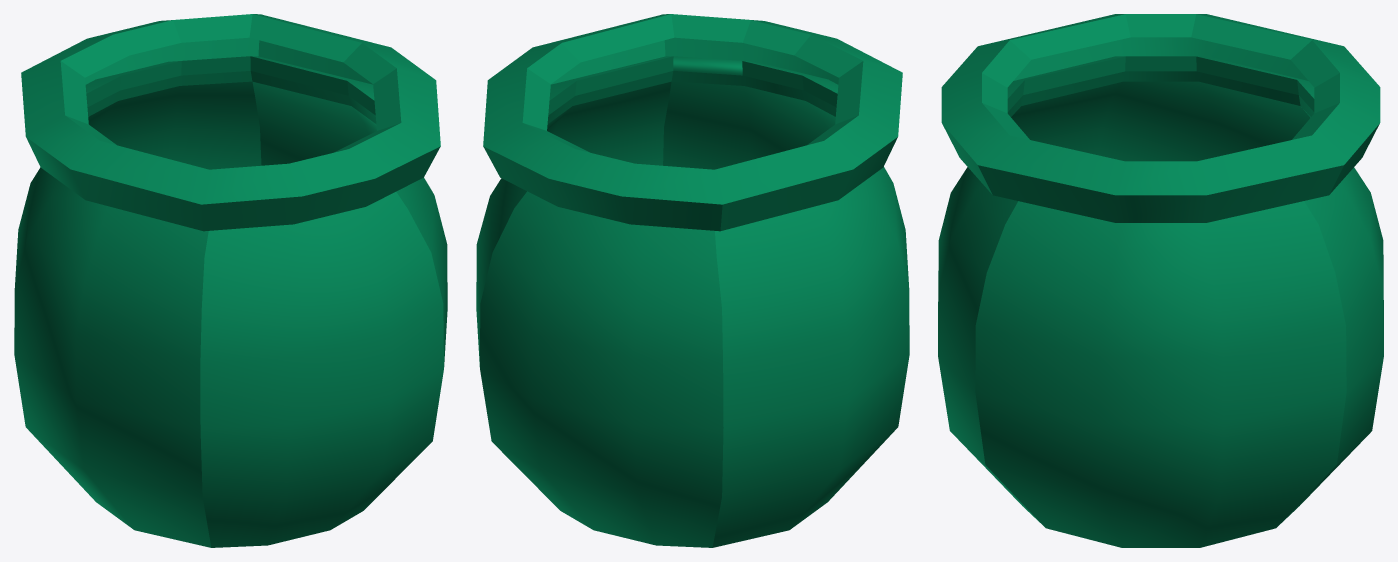
The model's file is vase.fbx.
3 renders of one model, left to right at view 1: azimuth 30°, elevation 25°; view 2: azimuth 150°, elevation 25°; view 3: azimuth 270°, elevation 25°, orthographic.
Parts seen in each view (by area): view 1: vase; view 2: vase; view 3: vase.
Boxes of the visible parts, left/top/right/bottom form: vase: left=14, top=14, right=447, bottom=547; vase: left=476, top=14, right=909, bottom=547; vase: left=938, top=14, right=1383, bottom=547.
Bounding box in the file's own units: 9.84 × 10.03 × 10.06.
